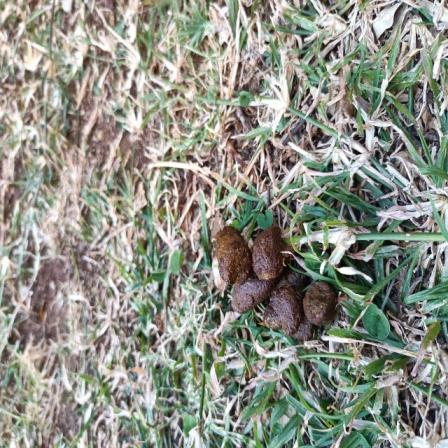dog-poop: (208, 227, 342, 343)
